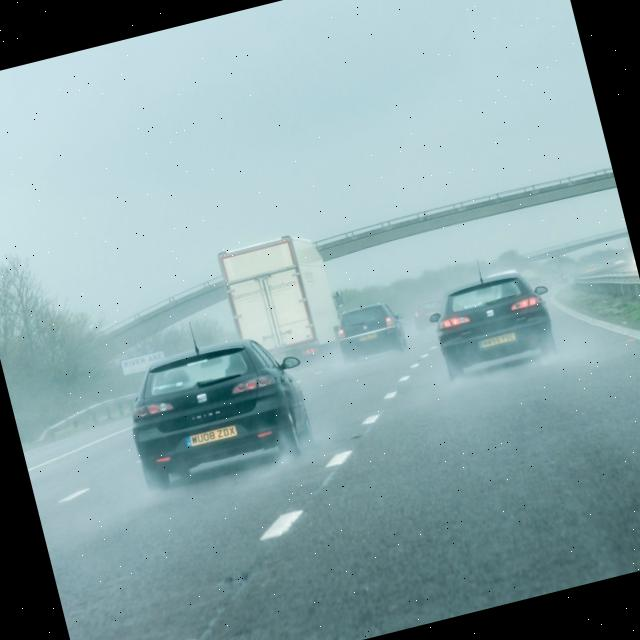bus: (216, 227, 348, 369)
car: (116, 327, 314, 498), (424, 262, 560, 386), (334, 295, 410, 363), (409, 296, 450, 330)
